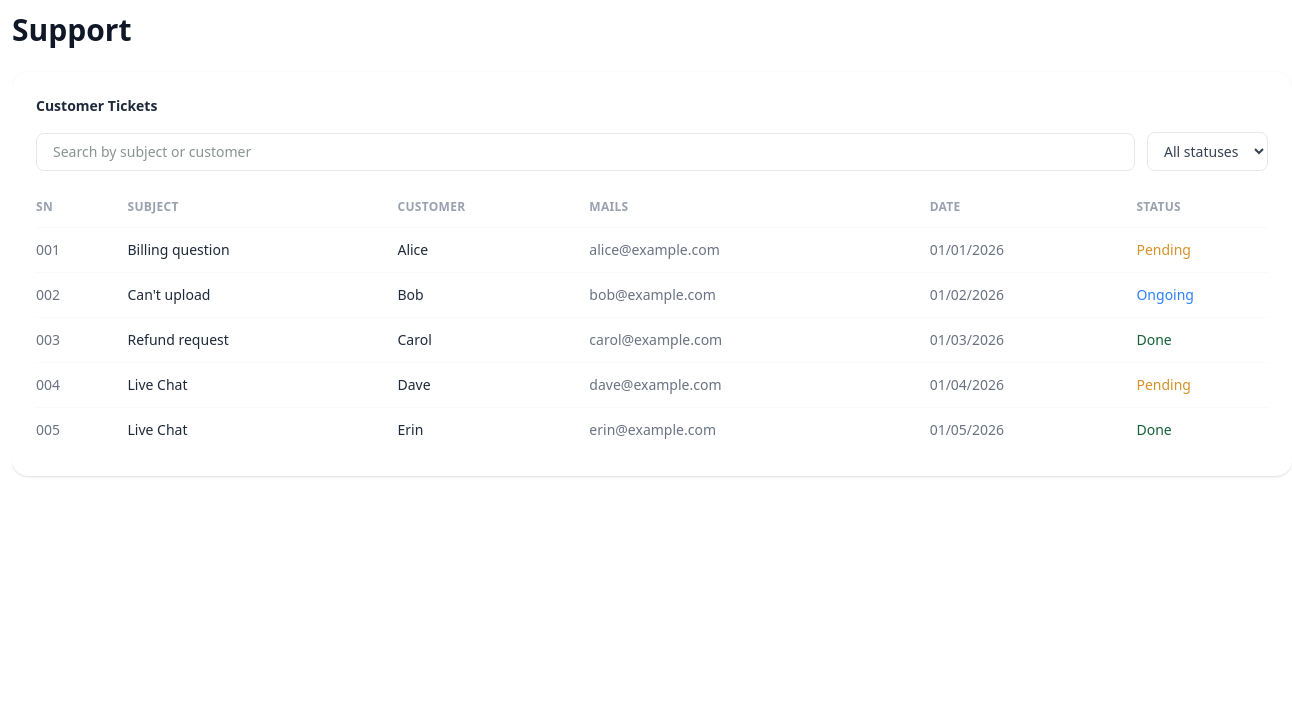
Test: AdminSupportPage › shows the chat thread and reply box for a Live Chat ticket
Click the text "Dave" at (414, 384), box [398, 362, 589, 408]
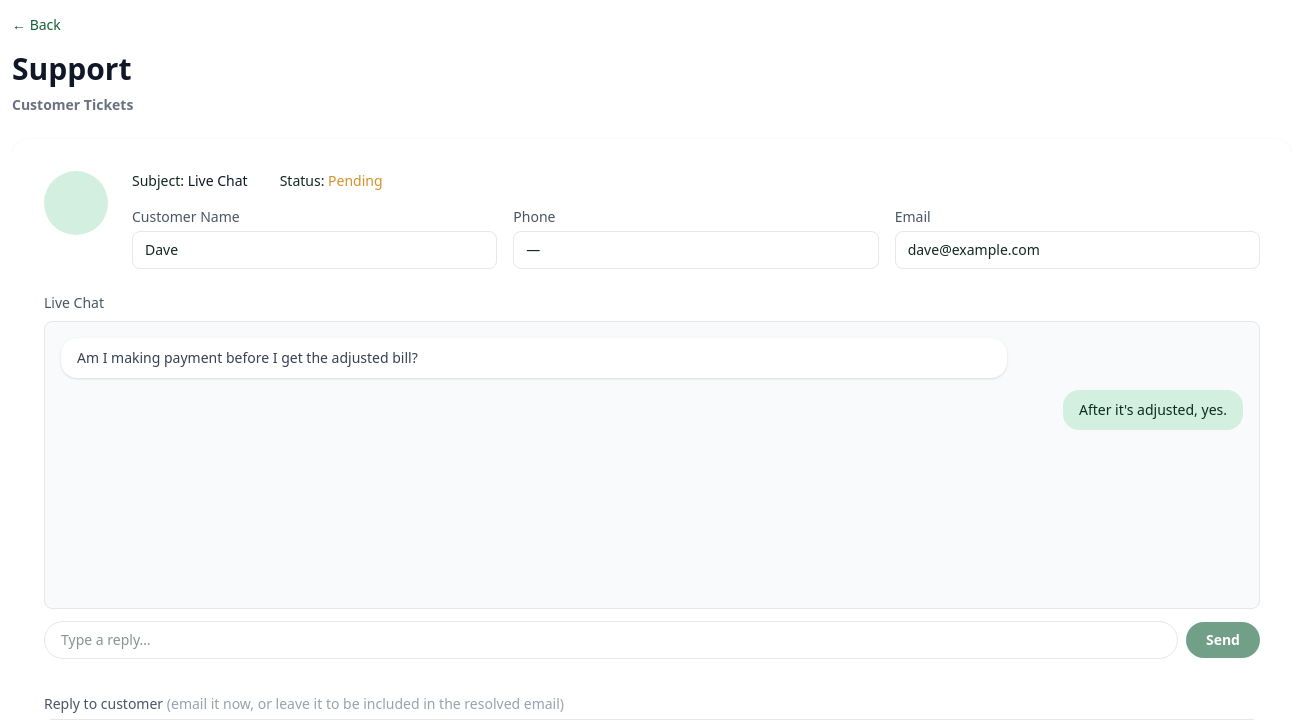
Expected: the text "Am I making payment before I get the adjusted bill?" is shown, [61, 338, 1007, 378]
Expected: the text "After it's adjusted, yes." is shown, [1063, 390, 1243, 430]
Expected: the field with placeholder "Type a reply…" is shown, [44, 621, 1178, 659]
